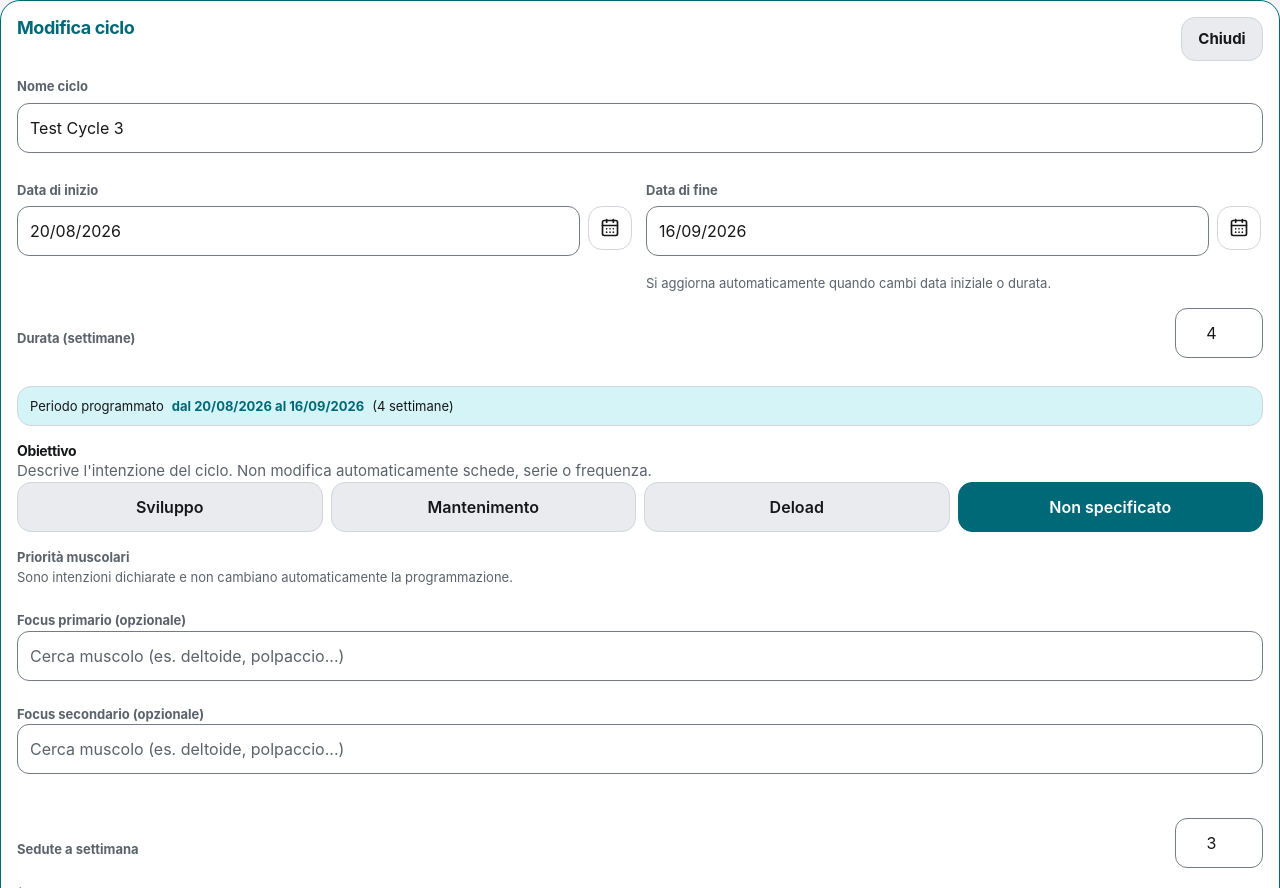
Challenger 2 Empirical Verification: CycleEditor UI & Two-Way Binding › Scenario 3: Start Date text change shifts End Date preserving duration weeks
The image size is (1280, 888).
Step 1. Replace the text in the field with id "cycle-start-date" with "01/09/2026" → (298, 231), box x1=17 y1=206 x2=580 y2=256
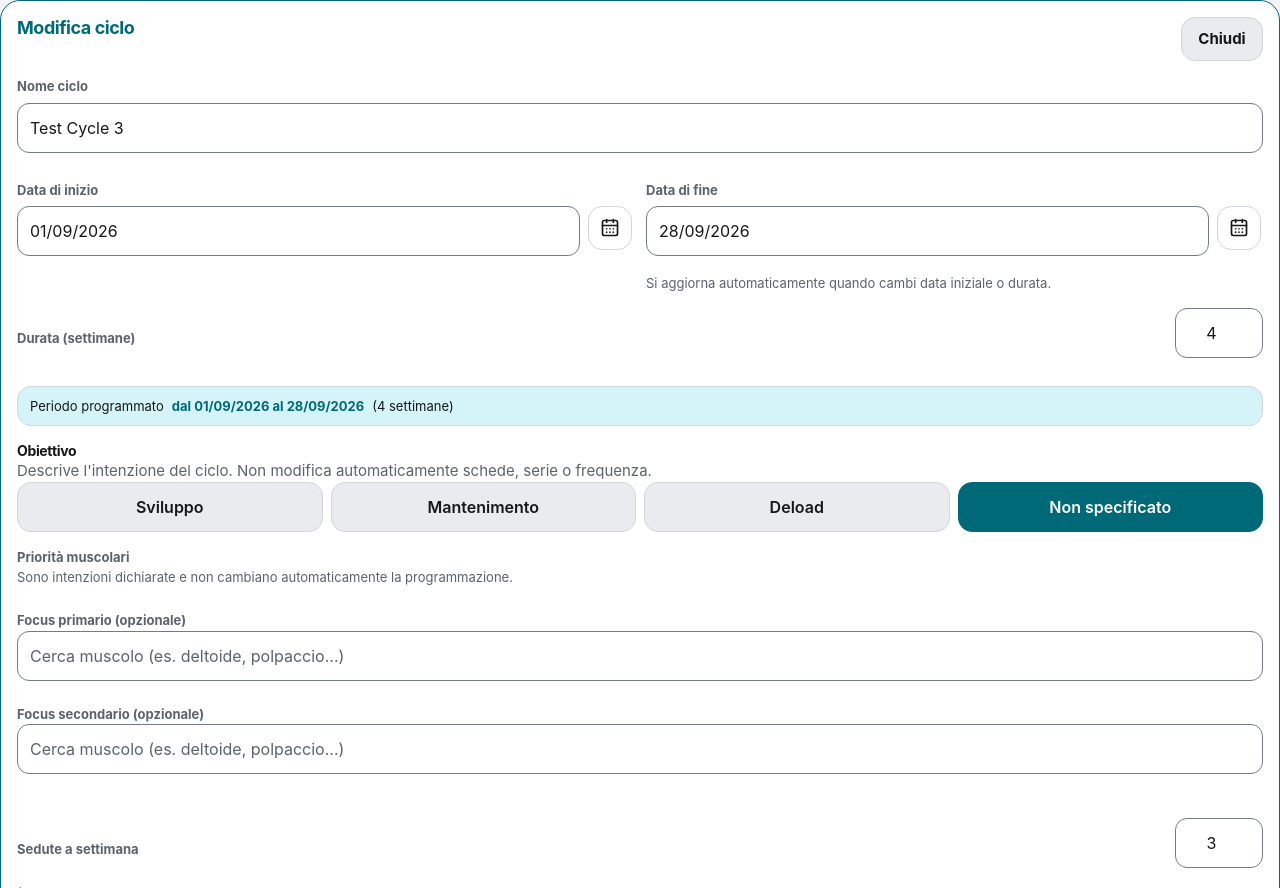
Result: the field with id "cycle-end-date" holds "28/09/2026" at x1=646 y1=206 x2=1209 y2=256
